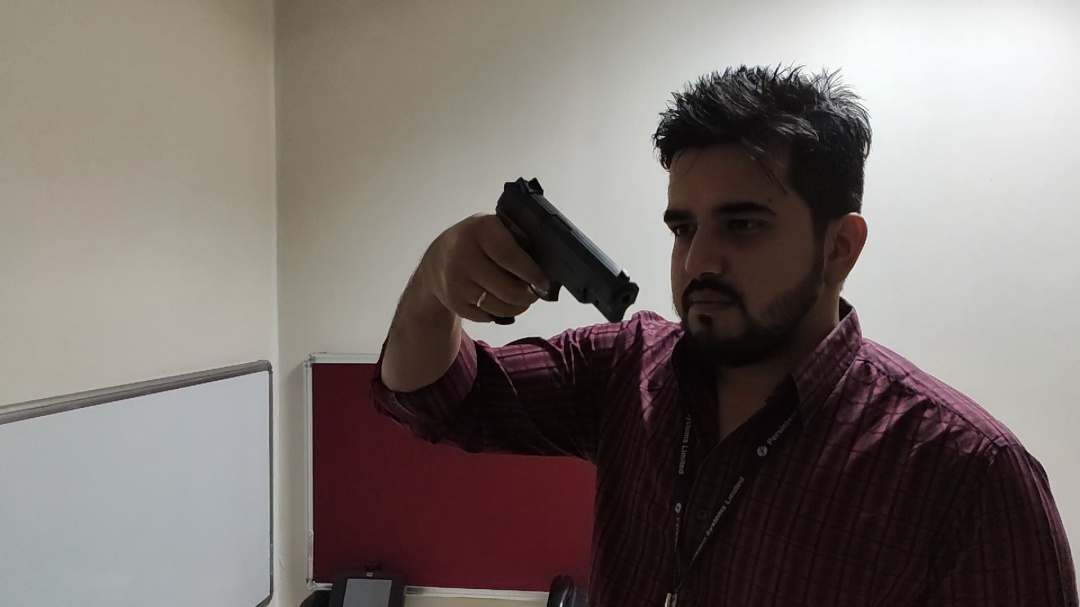gun: (474, 175, 637, 333)
